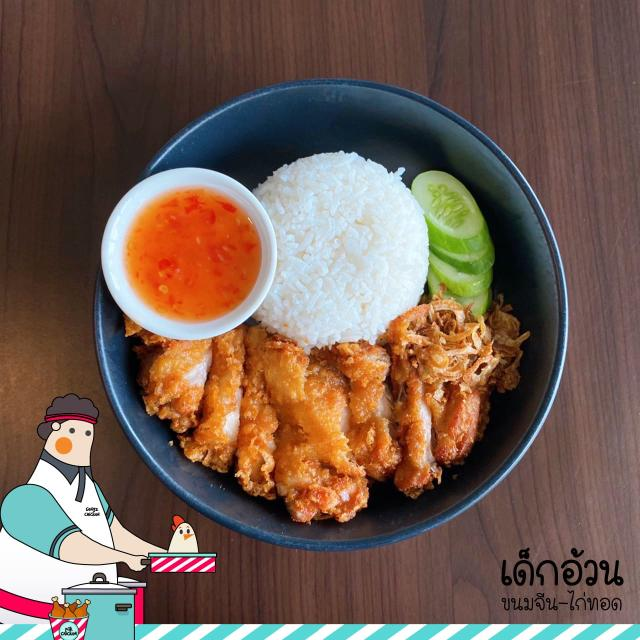Carbohydrate: (243, 148, 430, 352)
Kaow-Friedpork: (90, 77, 572, 552)
Protein: (117, 292, 530, 526)
Vegetable: (409, 165, 494, 316)
